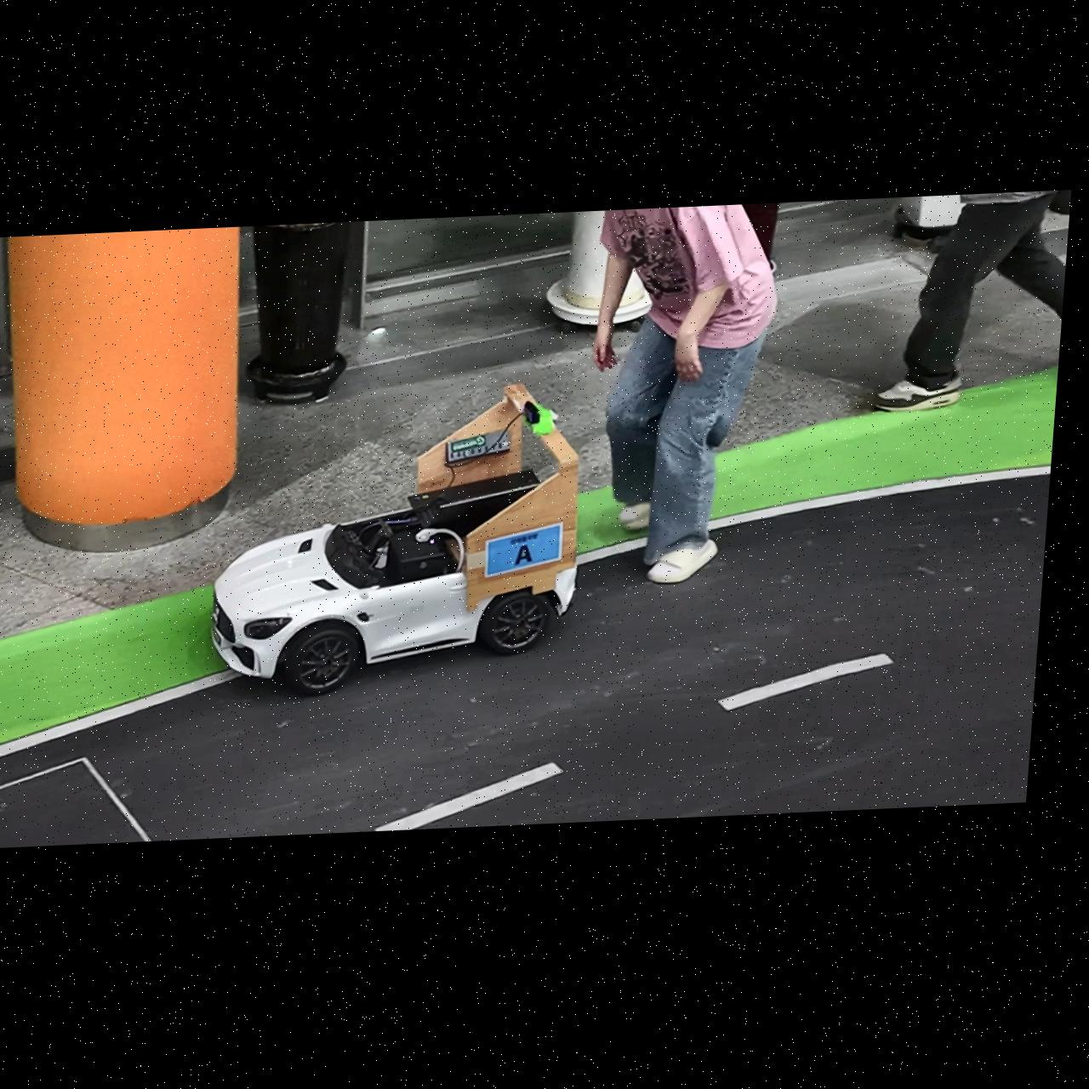broken_line: (373, 761, 564, 831), (717, 653, 895, 711)
